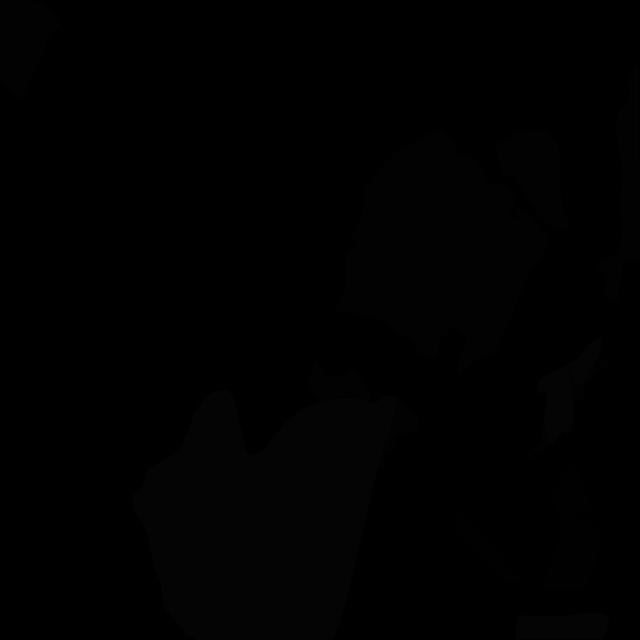cardboard: (334, 131, 549, 375), (495, 129, 570, 234), (0, 0, 60, 99), (616, 64, 640, 260), (571, 359, 613, 433), (379, 396, 419, 473), (306, 362, 372, 403), (595, 255, 625, 302), (526, 422, 551, 460)
rigid_plastic: (541, 464, 601, 591), (450, 512, 528, 583)
soft_plastic: (132, 390, 397, 640), (537, 364, 573, 445), (516, 612, 609, 639), (568, 336, 602, 385)
